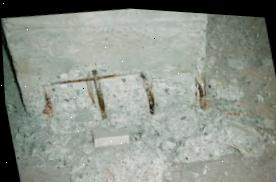exposed_rebar: (54, 70, 116, 119), (140, 73, 155, 114), (43, 95, 53, 117), (198, 82, 204, 97)
spalling: (41, 19, 211, 123)
